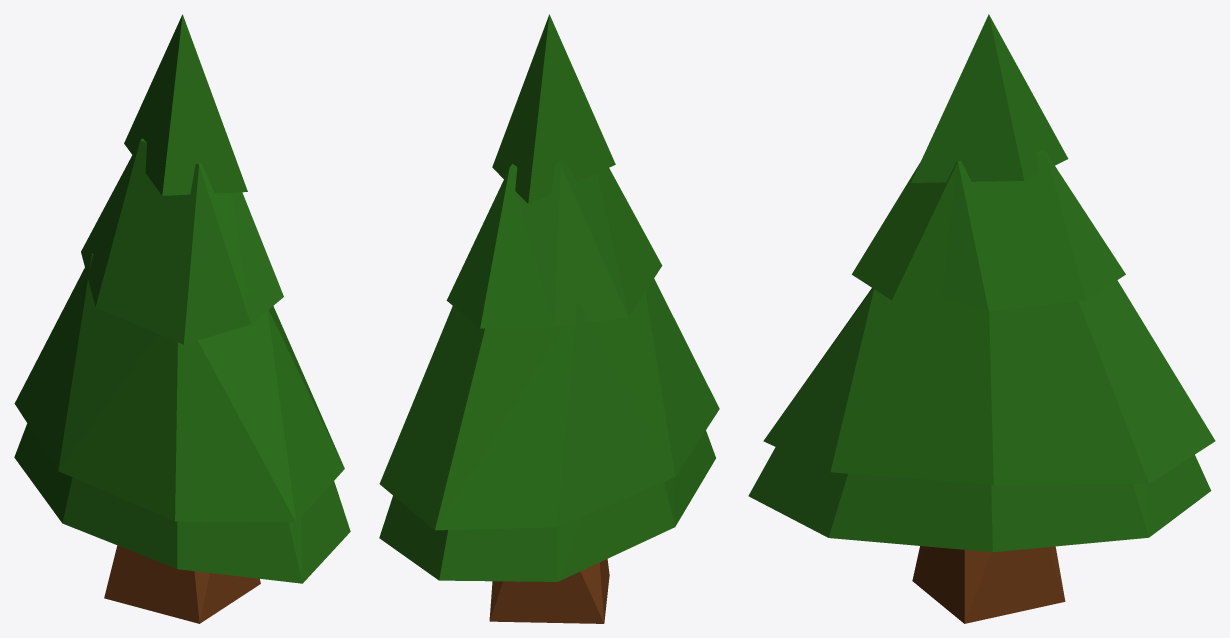
The model's file is TreeLow.fbx.
3 renders of one model, left to right at view 1: azimuth 30°, elevation 25°; view 2: azimuth 150°, elevation 25°; view 3: azimuth 270°, elevation 25°, orthographic.
Parts seen in each view (by area): view 1: Cylinder.078; view 2: Cylinder.078; view 3: Cylinder.078.
Part boxes in pixels (box(x1,y1,x2,y2)): Cylinder.078: box(14, 14, 350, 623); Cylinder.078: box(379, 14, 719, 623); Cylinder.078: box(748, 14, 1215, 623).
Bounding box in the file's own units: 370 × 829 × 608.
